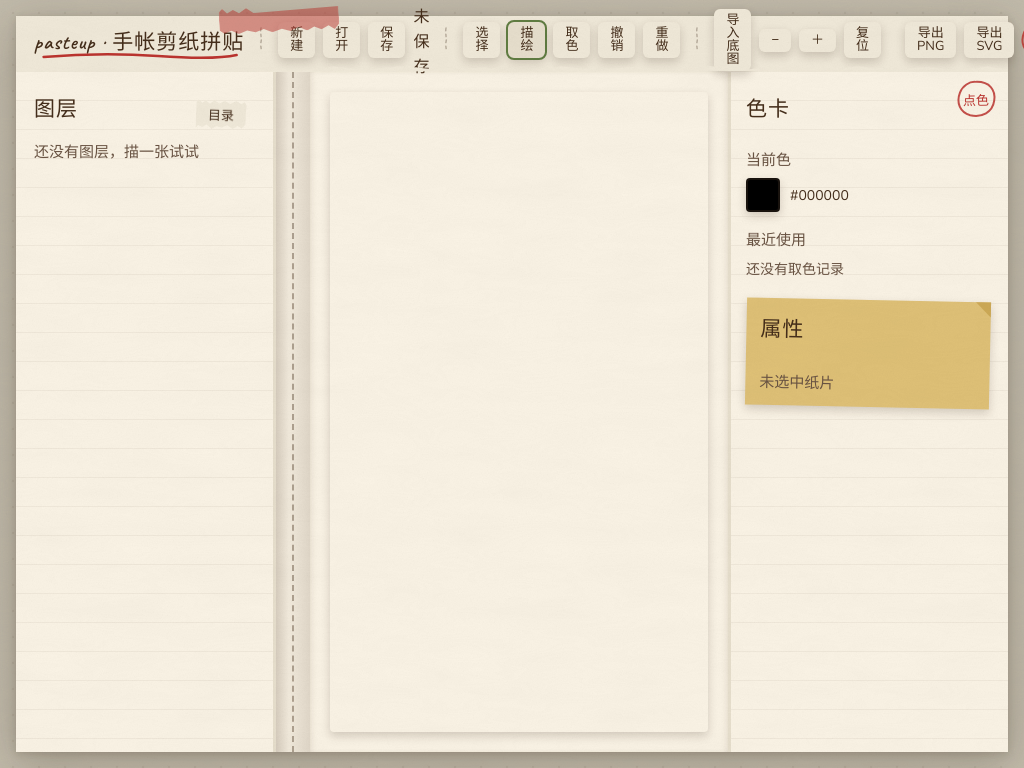
Scenario: App 集成（S6）— 屏幕取色 + MRU 色板 › trace 工具下取色后回到 trace（bug 修复：取色不静默切回 select）
Click the button with test id "pick-color" at (572, 40), box [553, 22, 590, 58]
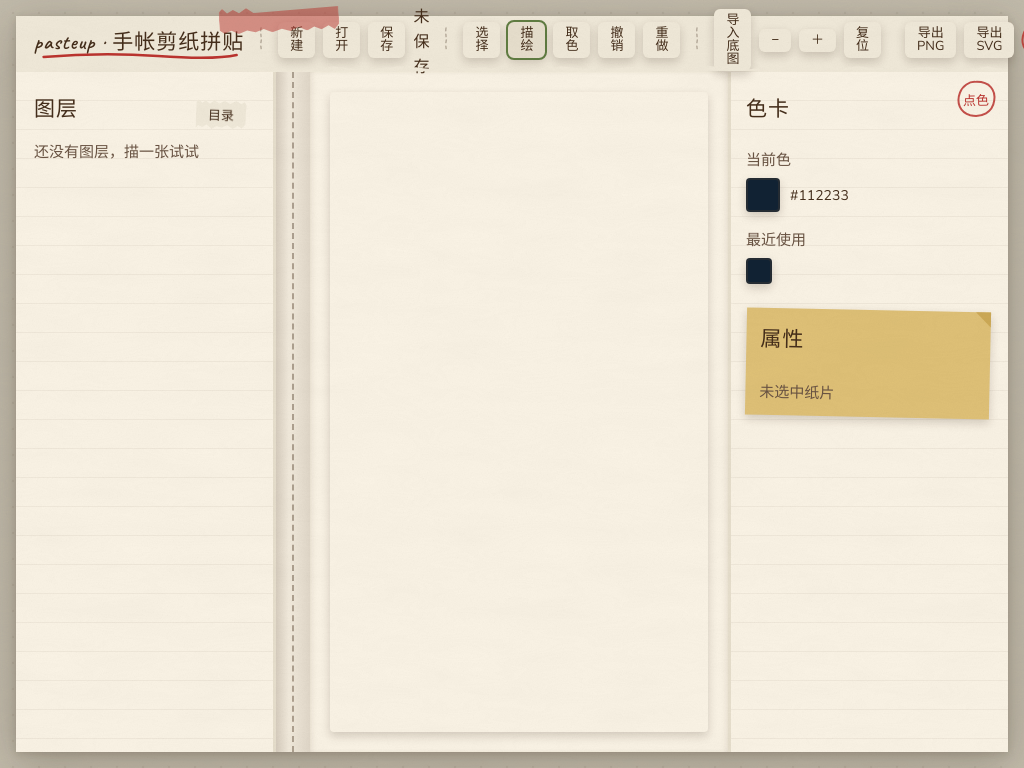
Expected: the button with test id "recent-color-112233" is shown, [746, 258, 772, 284]
